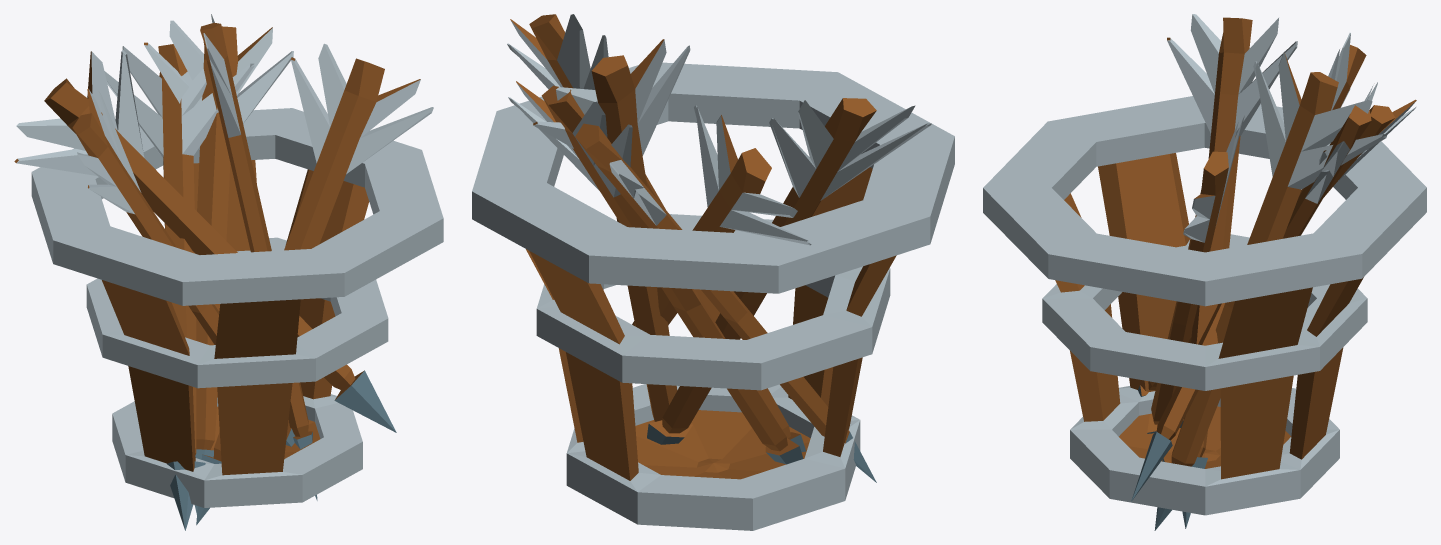
The model's file is arrowBasket.fbx.
3 views of the same model, side by side, from view 1: azimuth 30°, elevation 25°; view 2: azimuth 150°, elevation 25°; view 3: azimuth 270°, elevation 25° (orthographic). The views are drawn at different scales.
Visible parts, largest first — view 1: Cylinder.001, Cylinder, Cylinder.005, Cylinder.003, Cylinder.013, Cylinder.004, Cylinder.007; view 2: Cylinder.001, Cylinder.007, Cylinder.004, Cylinder.003, Cylinder, Cylinder.013, Cylinder.005; view 3: Cylinder.001, Cylinder.004, Cylinder.007, Cylinder.005, Cylinder, Cylinder.003, Cylinder.013.
Boxes of the visible parts, x1,y1,x2,y2 form: Cylinder.001: (31,108,443,507); Cylinder: (14,50,396,432); Cylinder.005: (196,43,433,525); Cylinder.003: (144,20,293,514); Cylinder.013: (104,44,254,530); Cylinder.004: (200,14,317,500); Cylinder.007: (72,88,294,446); Cylinder.001: (472,62,954,530); Cylinder.007: (647,98,931,444); Cylinder.004: (533,39,690,422); Cylinder.003: (508,81,803,464); Cylinder: (632,105,811,325); Cylinder.013: (575,123,876,482); Cylinder.005: (507,14,806,452); Cylinder.001: (983,96,1426,515); Cylinder.004: (1154,51,1386,530); Cylinder.007: (1167,14,1297,528); Cylinder.005: (1147,115,1244,433); Cylinder: (1131,33,1366,501); Cylinder.003: (1179,82,1377,427); Cylinder.013: (1138,99,1416,396).
Size of the model in its own units: 106 by 119 by 105.
